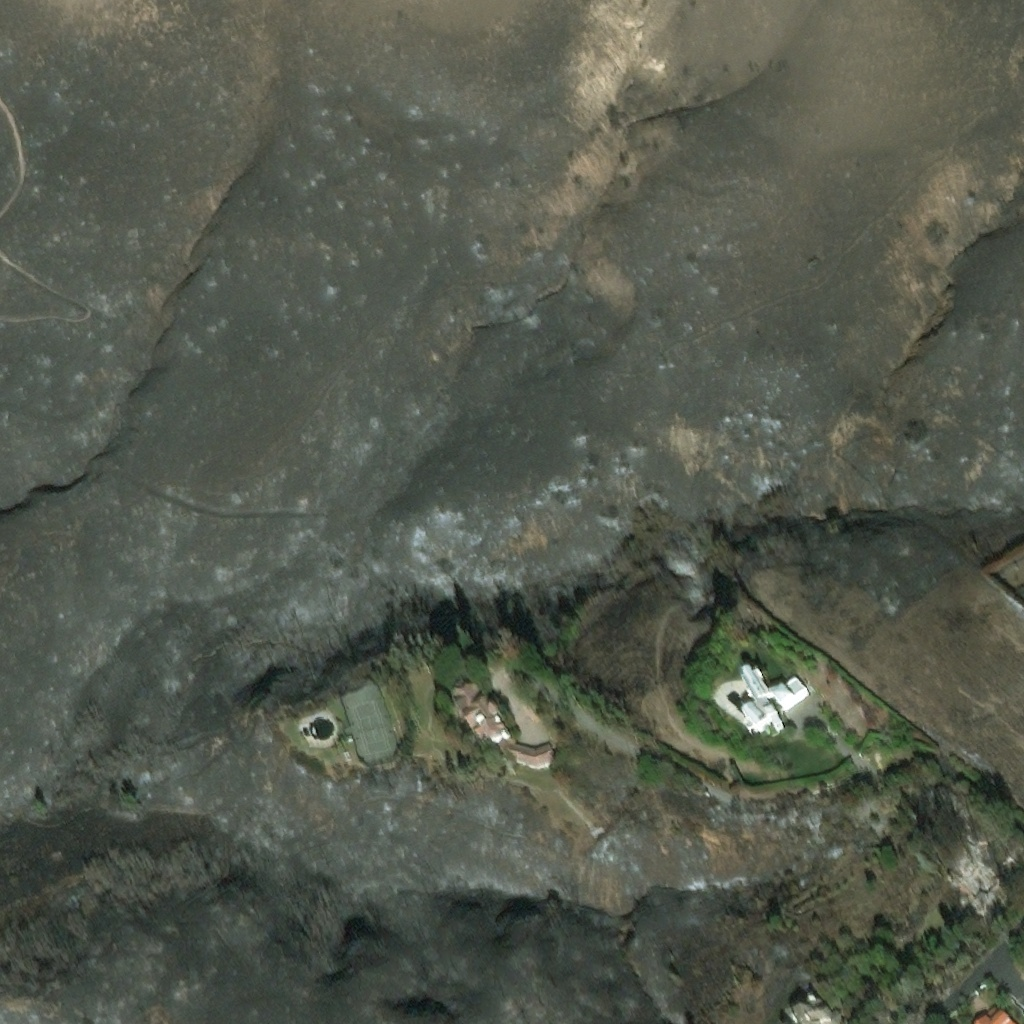0 no-damage: (451, 686, 558, 769), (743, 670, 774, 706), (772, 675, 805, 706), (978, 1003, 1015, 1023), (781, 685, 807, 709), (796, 1011, 846, 1023), (745, 708, 770, 731), (968, 993, 988, 1013), (766, 709, 778, 720)
3 destroyed: (950, 855, 1003, 917), (931, 787, 977, 836)
